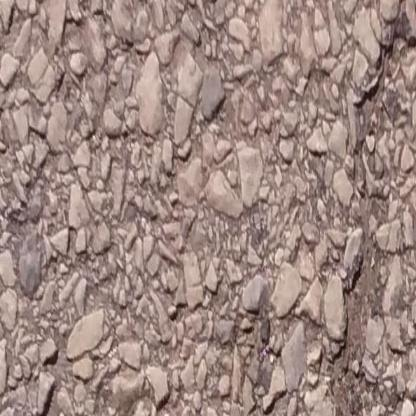Cracks: (332, 0, 416, 416)
